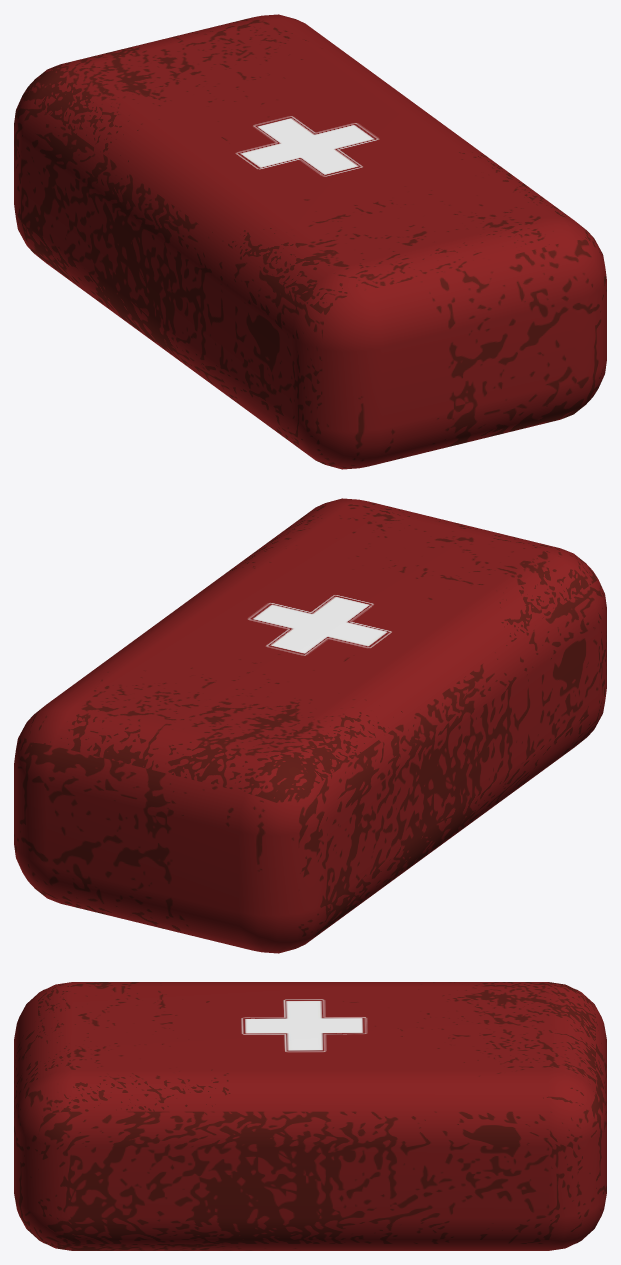
The model's file is med.fbx.
3 views of the same model, one above another, from view 1: azimuth 30°, elevation 25°; view 2: azimuth 150°, elevation 25°; view 3: azimuth 270°, elevation 25° (orthographic). The views are drawn at different scales.
Parts seen in each view (by area): view 1: med; view 2: med; view 3: med.
Part boxes in pixels (box(x1,y1,x2,y2)): med: box(14, 14, 606, 469); med: box(14, 498, 606, 953); med: box(14, 982, 606, 1250).
Bounding box in the file's own units: 16.95 × 10.53 × 32.15.
Materials: 1 (1 with a texture image).
